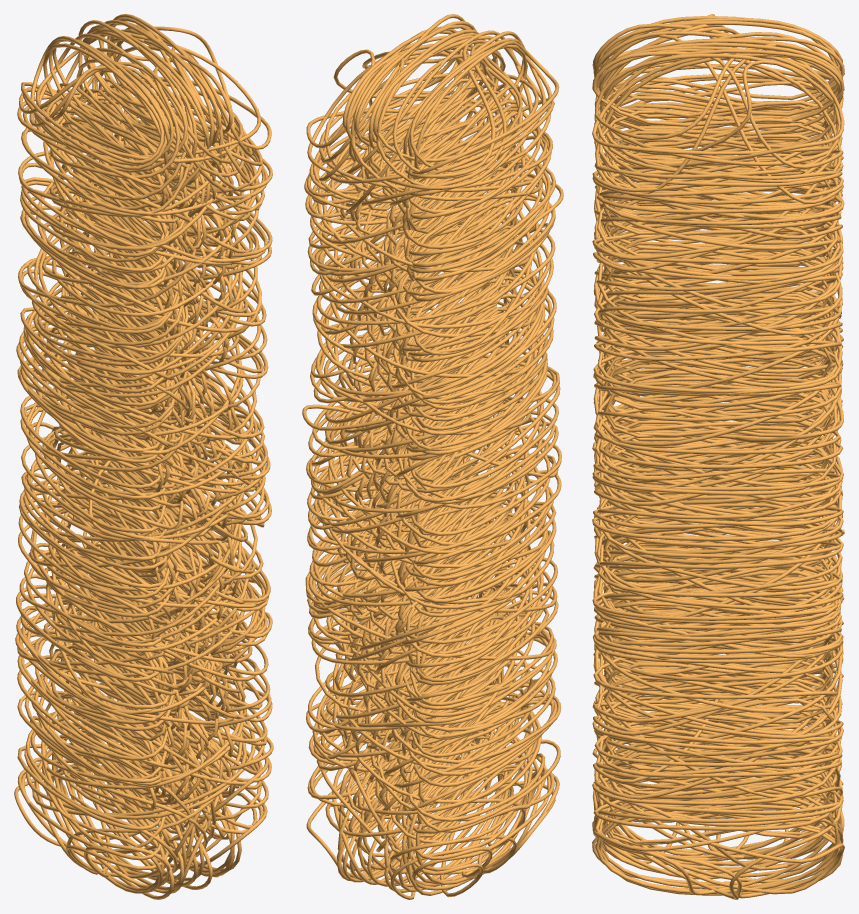
3 views of the same model, side by side, from view 1: azimuth 30°, elevation 25°; view 2: azimuth 150°, elevation 25°; view 3: azimuth 270°, elevation 25° (orthographic). The views are drawn at different scales.
Parts seen in each view (by area): view 1: letter_i; view 2: letter_i; view 3: letter_i.
Boxes of the visible parts, x1=… form: letter_i: x1=14, y1=14, x2=273, y2=899; letter_i: x1=302, y1=14, x2=563, y2=899; letter_i: x1=592, y1=14, x2=844, y2=899.
Bounding box in the file's own units: 0.1414 × 0.5937 × 0.1604.
